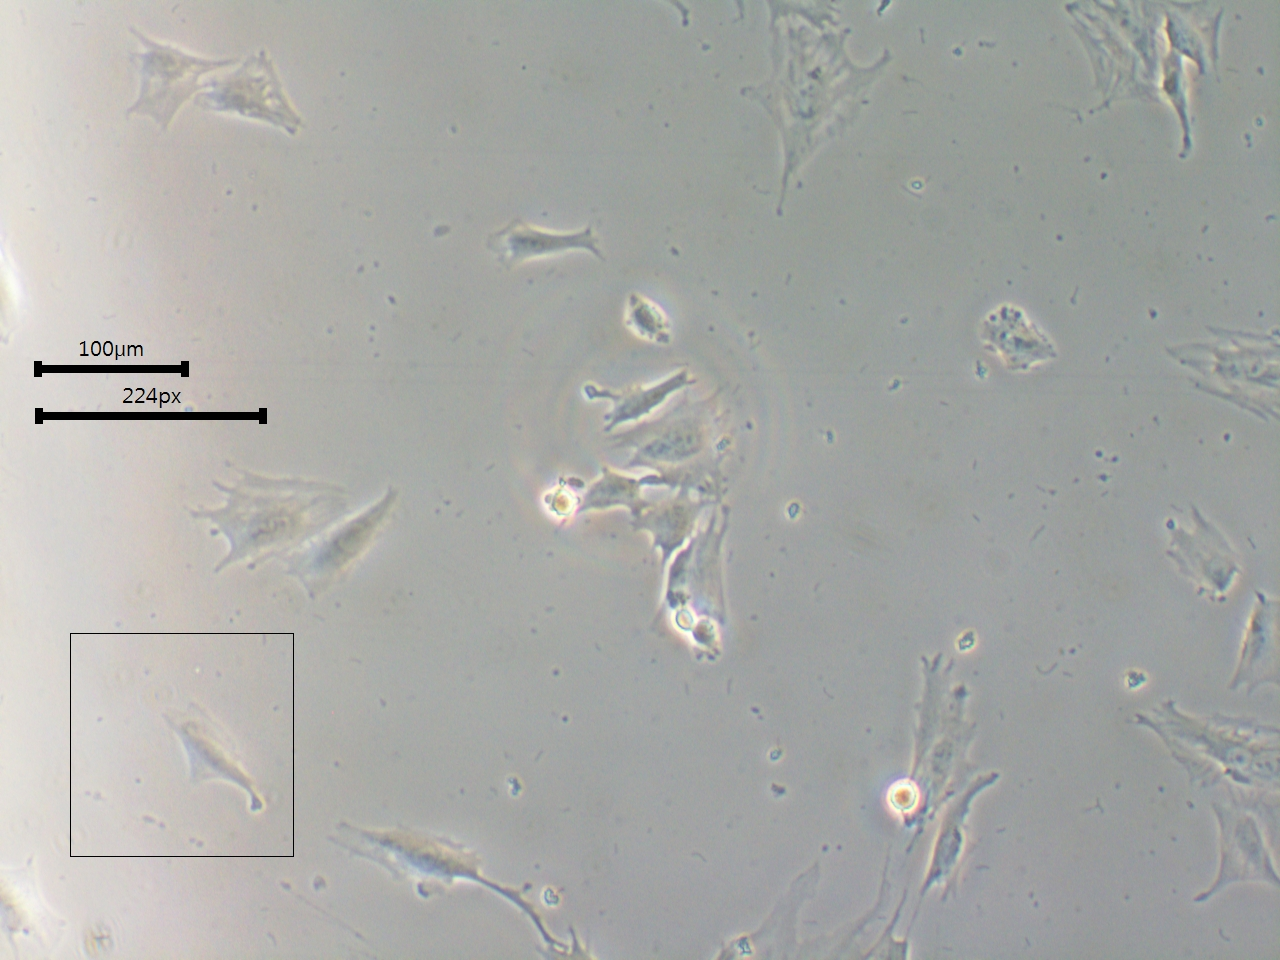small-polygonal: (489, 211, 610, 282)
small-spread: (165, 700, 266, 821), (202, 52, 304, 141), (124, 25, 208, 132)
